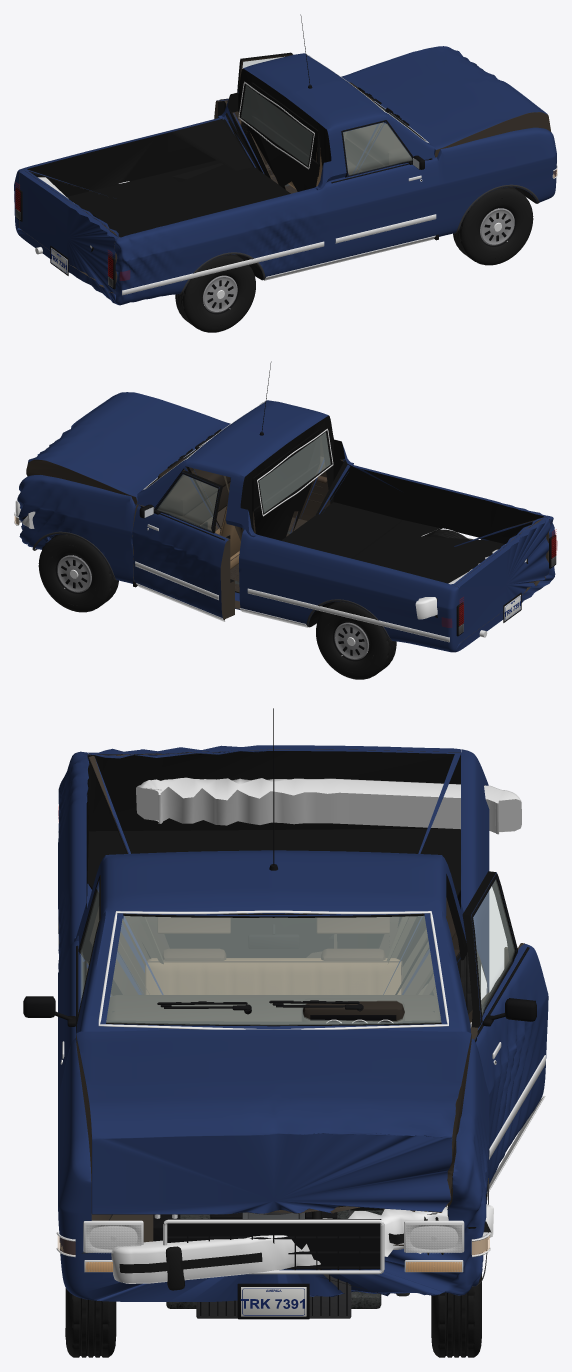
The model's file is pickup87_damaged.glb.
3 renders of one model, top to bottom at view 1: azimuth 30°, elevation 25°; view 2: azimuth 150°, elevation 25°; view 3: azimuth 270°, elevation 25°, orthographic. The views are drawn at different scales.
Parts seen in each view (by area): view 1: Body, Hood, Tailgate, Wheel_FR_mesh, Wheel_RR_mesh, Glass, Glass_FR, Interior, Trim, Trim_FR, Door_FR, Ends (+1 smaller); view 2: Body, Hood, Door_FL, Tailgate, Wheel_FL_mesh, Wheel_RL_mesh, Glass, Interior, Trim, Glass_FL, Trim_FL, Ends (+1 smaller); view 3: Body, Hood, Glass, Interior, Ends, Bumper_R, Door_FL, Bumper_F, Wheel_FL_mesh, Glass_FL, Engine, Trim_FL (+9 smaller).
Boxes of the visible parts, box(x1,y1,x2,y2) form: Body: box(14, 53, 556, 305); Hood: box(341, 46, 550, 157); Tailgate: box(19, 170, 118, 294); Wheel_FR_mesh: box(453, 187, 533, 265); Wheel_RR_mesh: box(175, 254, 255, 332); Glass: box(238, 54, 428, 169); Glass_FR: box(343, 122, 412, 177); Interior: box(288, 82, 409, 189); Trim: box(122, 14, 539, 295); Trim_FR: box(330, 120, 436, 264); Door_FR: box(327, 120, 439, 260); Ends: box(15, 165, 557, 289); Body: box(17, 400, 555, 652); Hood: box(26, 392, 230, 504); Door_FL: box(132, 470, 234, 619); Tailgate: box(455, 517, 550, 643); Wheel_FL_mesh: box(38, 534, 118, 612); Wheel_RL_mesh: box(316, 601, 396, 679); Glass: box(143, 401, 333, 516); Interior: box(154, 458, 240, 569); Trim: box(32, 361, 483, 642); Glass_FL: box(156, 472, 220, 533); Trim_FL: box(135, 472, 225, 621); Ends: box(14, 500, 556, 636); Body: box(58, 749, 489, 1301); Hood: box(76, 1029, 471, 1214); Glass: box(98, 910, 448, 1029); Interior: box(107, 917, 440, 1023); Ends: box(56, 1219, 490, 1319); Bumper_R: box(136, 777, 521, 834); Door_FL: box(462, 871, 548, 1183); Bumper_F: box(111, 1204, 493, 1290); Wheel_FL_mesh: box(431, 1274, 481, 1357); Glass_FL: box(469, 880, 514, 1015); Engine: box(153, 1210, 351, 1318); Trim_FL: box(471, 873, 545, 1193).
Size of the model in its own units: 4.95 by 2.56 by 2.44.
34 materials, 5 textured.
